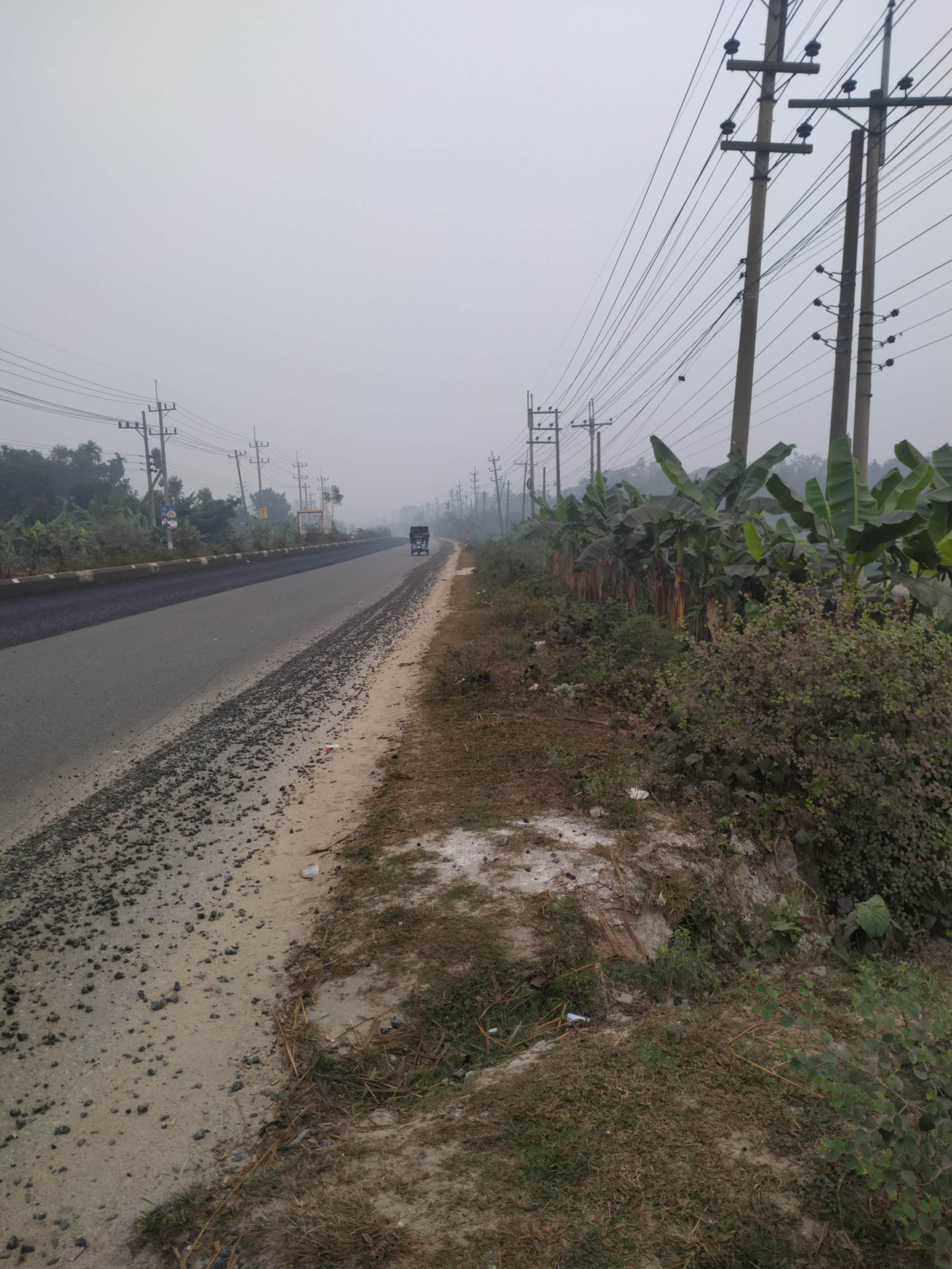Car: (394, 514, 459, 564)
